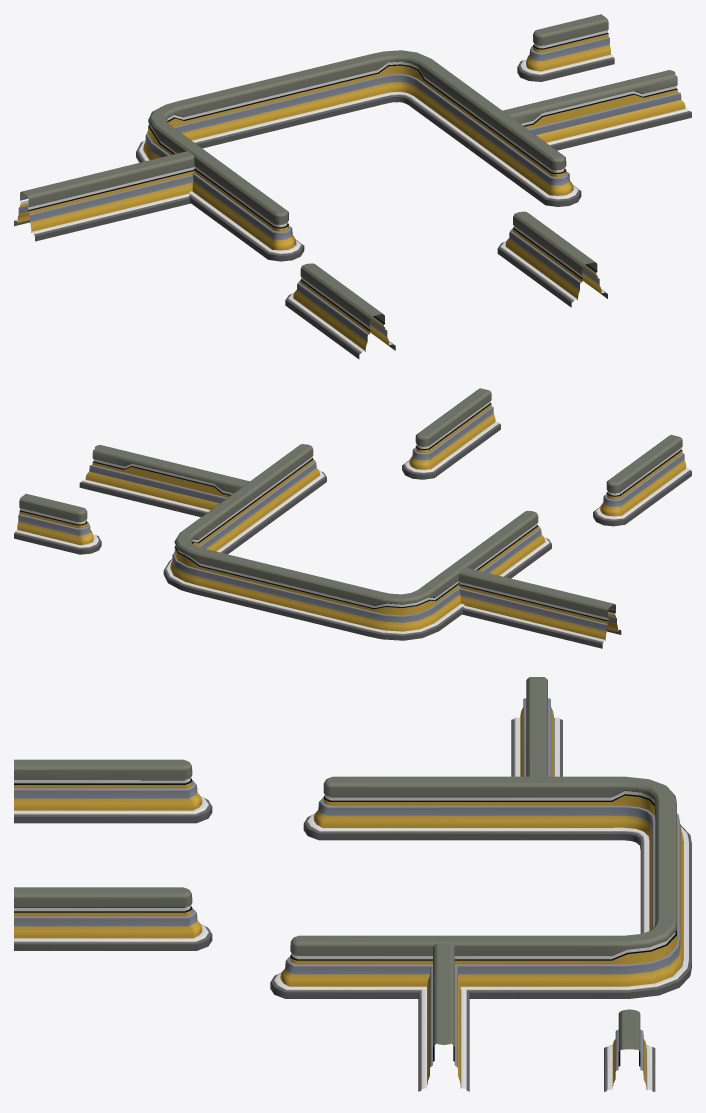
The model's file is Level19_Small_walls.fbx.
3 views of the same model, one above another, from view 1: azimuth 30°, elevation 25°; view 2: azimuth 150°, elevation 25°; view 3: azimuth 270°, elevation 25° (orthographic). The views are drawn at different scales.
Parts seen in each view (by area): view 1: Small_wall_L46, Small_wall_L47, Small_wallv1_4, Small_wall_L6, Small_wall_L48, Small_wall_L49; view 2: Small_wall_L46, Small_wall_L47, Small_wallv1_4, Small_wall_L6, Small_wall_L48, Small_wall_L49; view 3: Small_wall_L46, Small_wall_L6, Small_wall_L48, Small_wallv1_4, Small_wall_L47, Small_wall_L49.
Part boxes in pixels (left/top/right/bottom): Small_wall_L46: left=136, top=50, right=581, bottom=261; Small_wall_L47: left=14, top=151, right=194, bottom=241; Small_wallv1_4: left=502, top=70, right=691, bottom=150; Small_wall_L6: left=285, top=263, right=395, bottom=359; Small_wall_L48: left=497, top=211, right=607, bottom=307; Small_wall_L49: left=517, top=14, right=614, bottom=81; Small_wall_L46: left=163, top=444, right=551, bottom=640; Small_wall_L47: left=458, top=567, right=621, bottom=648; Small_wallv1_4: left=79, top=445, right=249, bottom=517; Small_wall_L6: left=593, top=434, right=691, bottom=526; Small_wall_L48: left=402, top=388, right=500, bottom=479; Small_wall_L49: left=14, top=493, right=101, bottom=554; Small_wall_L46: left=270, top=776, right=691, bottom=998; Small_wall_L6: left=14, top=759, right=212, bottom=823; Small_wall_L48: left=14, top=887, right=212, bottom=950; Small_wallv1_4: left=418, top=943, right=469, bottom=1091; Small_wall_L47: left=511, top=677, right=562, bottom=776; Small_wall_L49: left=604, top=1009, right=655, bottom=1091.
Size of the model in its own units: 590 by 38.67 by 454.
